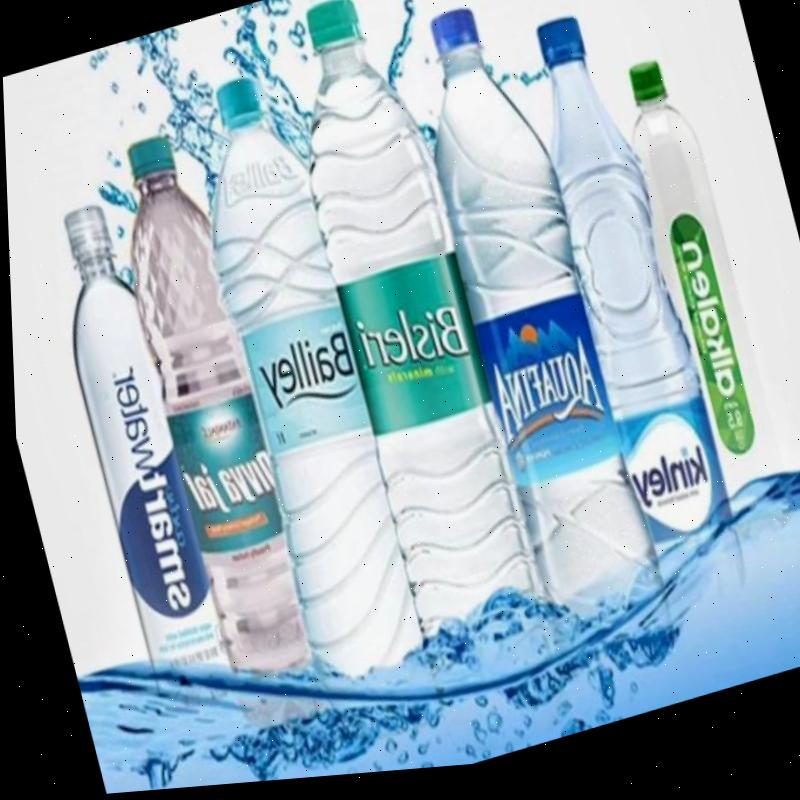botella: (264, 0, 547, 670), (167, 61, 423, 692), (395, 0, 652, 624), (509, 7, 732, 577), (97, 121, 315, 690)
